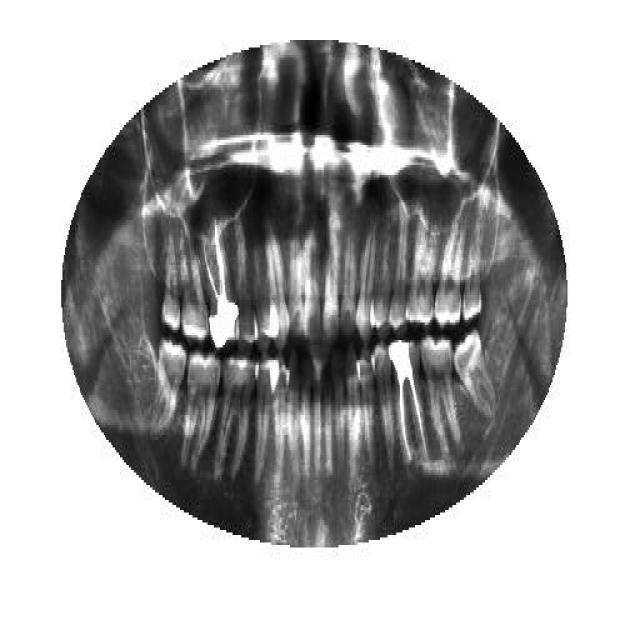Impacted Tooth: (452, 328, 496, 422)
Implant: (199, 215, 240, 350), (388, 340, 430, 468)
